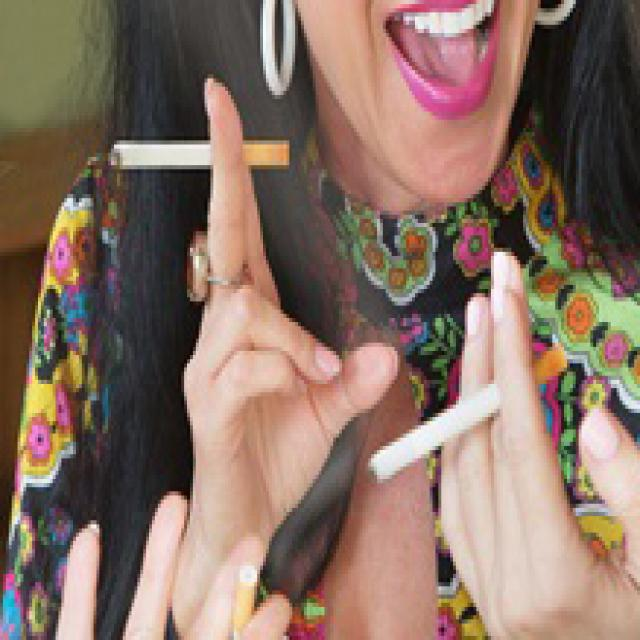cigarette: (362, 384, 500, 485), (108, 139, 214, 166)
